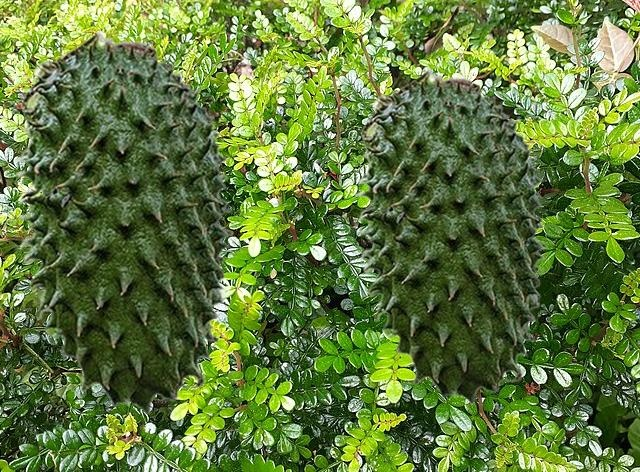guyabano: (14, 29, 234, 414), (355, 67, 548, 404)
